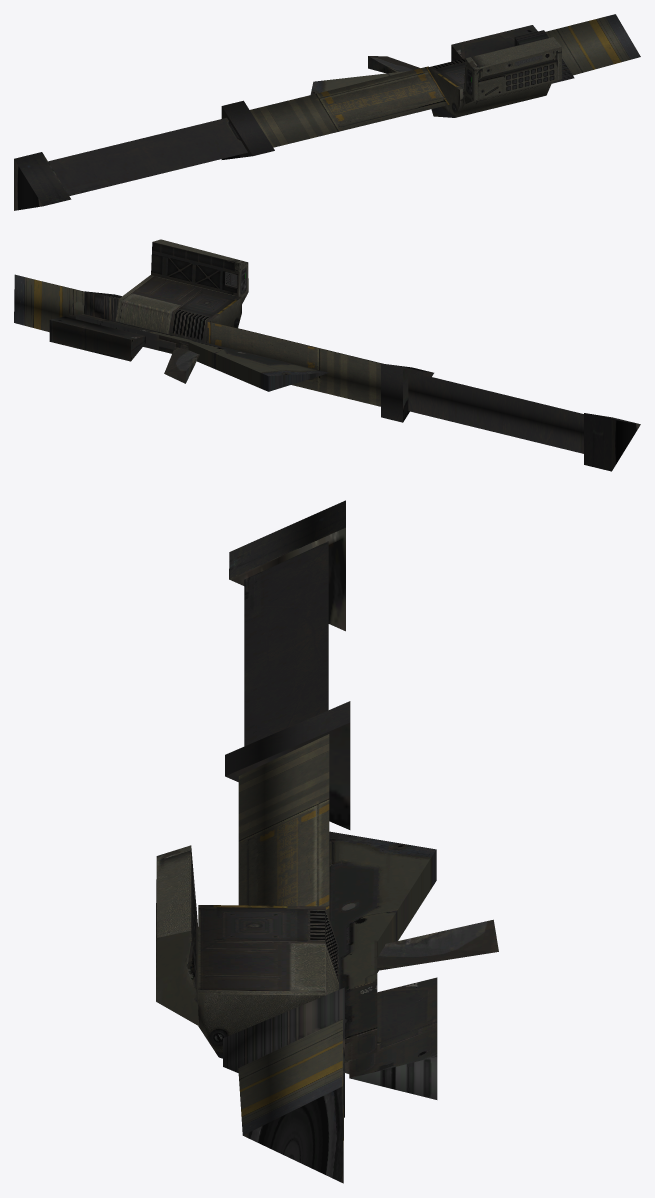
The model's file is t6_wpn_launch_fhj18_world_LOD2.obj.
3 views of the same model, one above another, from view 1: azimuth 30°, elevation 25°; view 2: azimuth 150°, elevation 25°; view 3: azimuth 270°, elevation 25° (orthographic). The views are drawn at different scales.
Visible parts, largest first — view 1: mtl_t6_wpn_launch_fhj18, mtl_t6_wpn_launch_fhj18_camo4, mtl_t6_wpn_launch_fhj18_camo2, mtl_t6_wpn_launch_fhj18_camo5, mtl_t6_wpn_launch_fhj18_camo3; view 2: mtl_t6_wpn_launch_fhj18, mtl_t6_wpn_launch_fhj18_camo4, mtl_t6_wpn_launch_fhj18_camo2, mtl_t6_wpn_launch_fhj18_camo3, mtl_t6_wpn_launch_fhj18_camo5; view 3: mtl_t6_wpn_launch_fhj18, mtl_t6_wpn_launch_fhj18_camo4, mtl_t6_wpn_launch_fhj18_camo2, mtl_t6_wpn_launch_fhj18_camo3.
Boxes of the visible parts, x1=… form: mtl_t6_wpn_launch_fhj18: x1=250, y1=14, x2=640, y2=147; mtl_t6_wpn_launch_fhj18_camo4: x1=48, y1=25, x2=562, y2=195; mtl_t6_wpn_launch_fhj18_camo2: x1=14, y1=30, x2=574, y2=206; mtl_t6_wpn_launch_fhj18_camo5: x1=14, y1=159, x2=42, y2=210; mtl_t6_wpn_launch_fhj18_camo3: x1=310, y1=71, x2=408, y2=94; mtl_t6_wpn_launch_fhj18: x1=14, y1=274, x2=382, y2=406; mtl_t6_wpn_launch_fhj18_camo4: x1=49, y1=239, x2=583, y2=453; mtl_t6_wpn_launch_fhj18_camo2: x1=84, y1=291, x2=638, y2=471; mtl_t6_wpn_launch_fhj18_camo3: x1=75, y1=314, x2=329, y2=391; mtl_t6_wpn_launch_fhj18_camo5: x1=611, y1=420, x2=640, y2=471; mtl_t6_wpn_launch_fhj18: x1=198, y1=734, x2=437, y2=1183; mtl_t6_wpn_launch_fhj18_camo4: x1=156, y1=541, x2=437, y2=1078; mtl_t6_wpn_launch_fhj18_camo2: x1=223, y1=500, x2=498, y2=1117; mtl_t6_wpn_launch_fhj18_camo3: x1=329, y1=831, x2=436, y2=1073.
Bounding box in the file's own units: 118 × 15.23 × 29.29.
